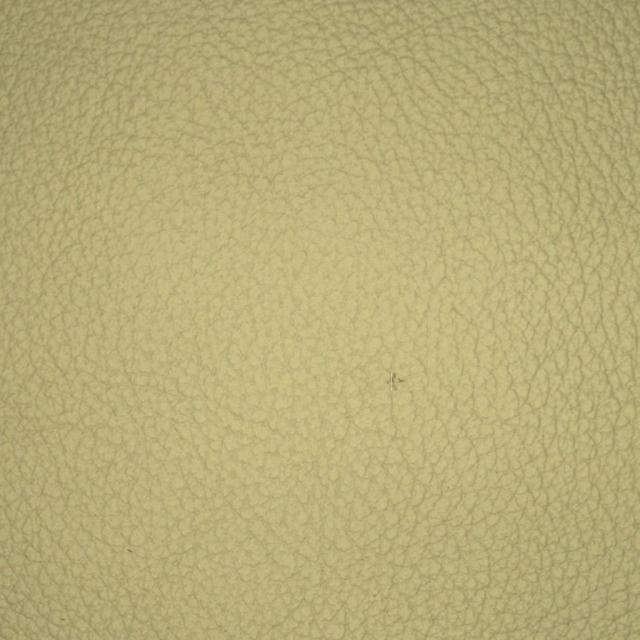Scratch: (346, 275, 460, 465)
